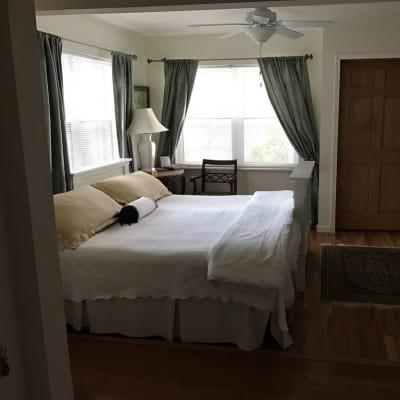bed: (35, 157, 322, 359)
